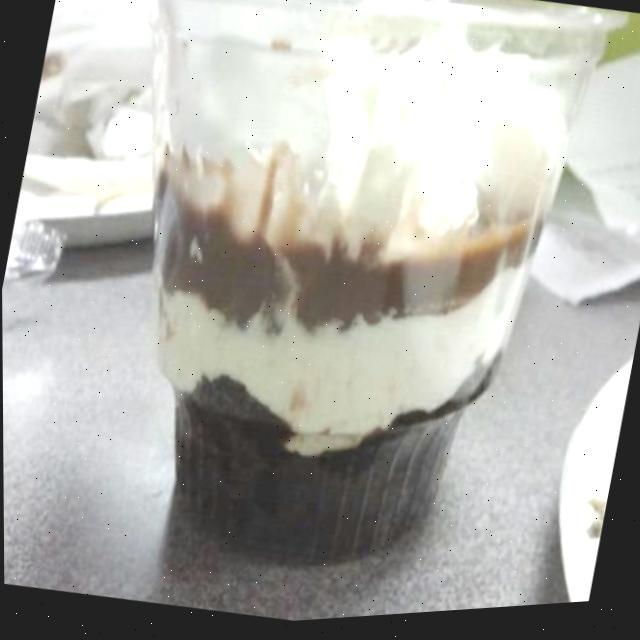蛋糕甜品: (52, 0, 627, 578)
